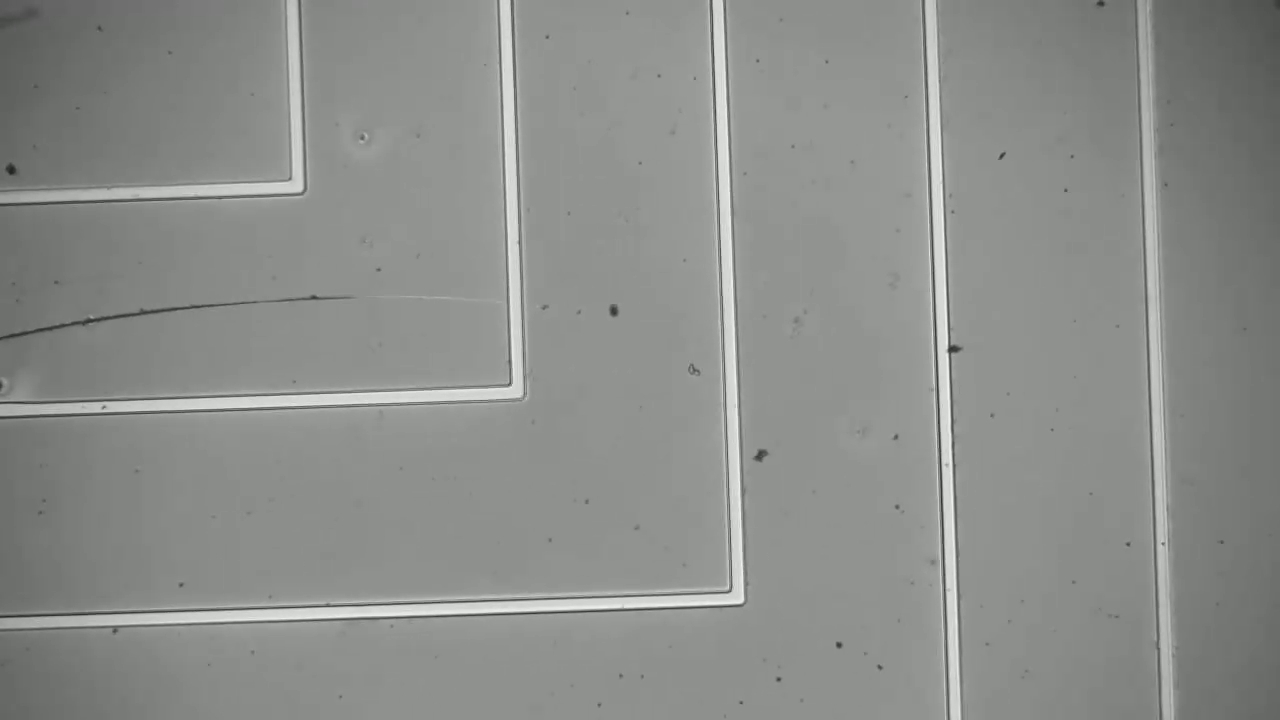scratch: (13, 263, 358, 366)
stains_enbedded: (923, 327, 972, 365)
